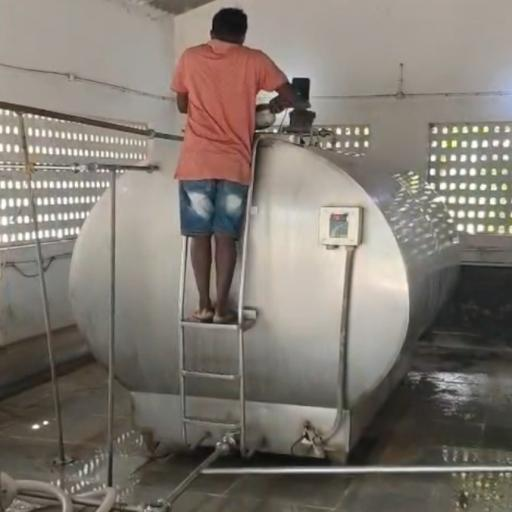silo: (65, 131, 464, 460)
vessel: (256, 103, 277, 129)
